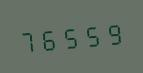five: (60, 21, 80, 52), (81, 19, 101, 50)
nine: (102, 17, 122, 48)
seven: (18, 24, 38, 55)
six: (39, 22, 59, 54)
